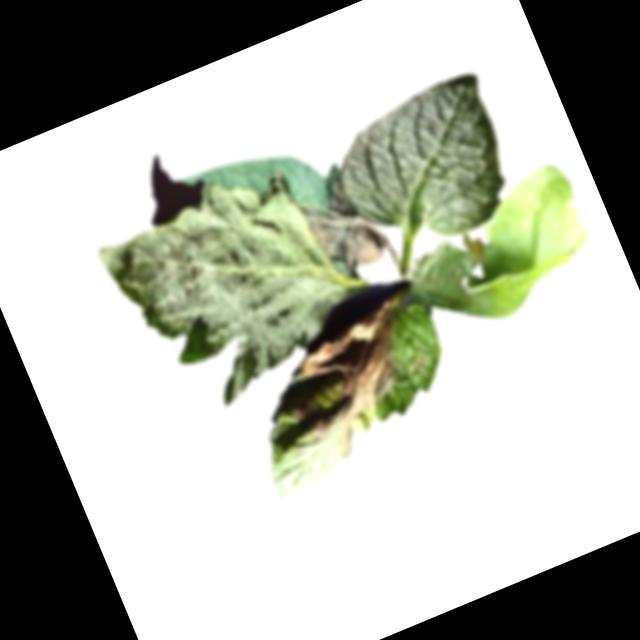Late_blight: (122, 205, 329, 420), (392, 157, 611, 345), (263, 296, 443, 470), (295, 167, 392, 283)
healthy: (318, 68, 530, 269)
